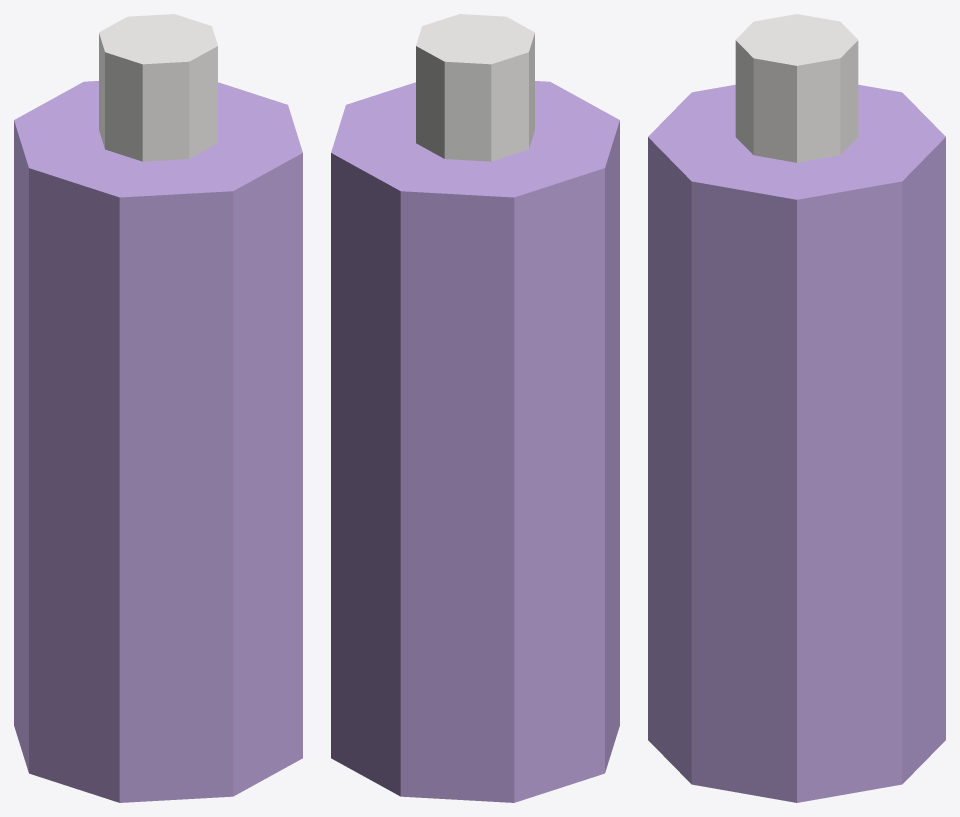
Rendered from Bottle_22.fbx.
The picture shows the model from 3 angles, left to right: view 1: azimuth 30°, elevation 25°; view 2: azimuth 150°, elevation 25°; view 3: azimuth 270°, elevation 25°; orthographic projection.
Visible parts, largest first — view 1: Bottle_22; view 2: Bottle_22; view 3: Bottle_22.
Boxes of the visible parts, x1,y1,x2,y2 form: Bottle_22: (14, 14, 302, 802); Bottle_22: (331, 14, 619, 802); Bottle_22: (648, 14, 945, 802).
Size of the model in its own units: 12.72 by 12.72 by 32.96.
